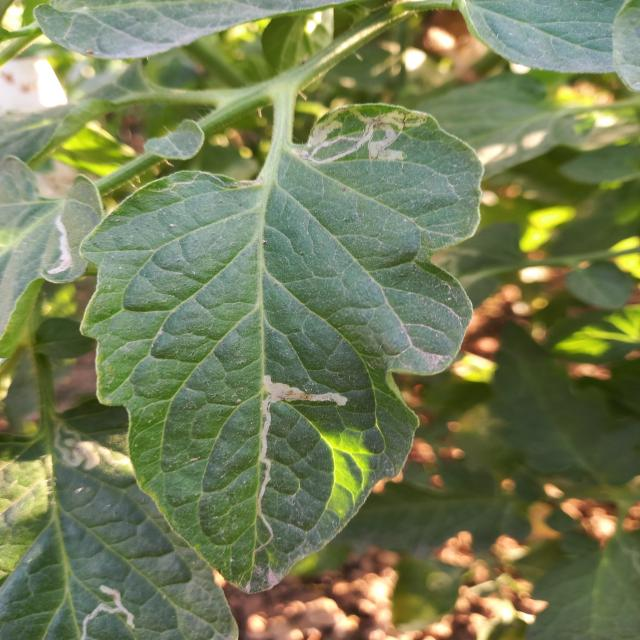Tuta absoluta: (219, 372, 349, 551), (294, 103, 430, 165)
